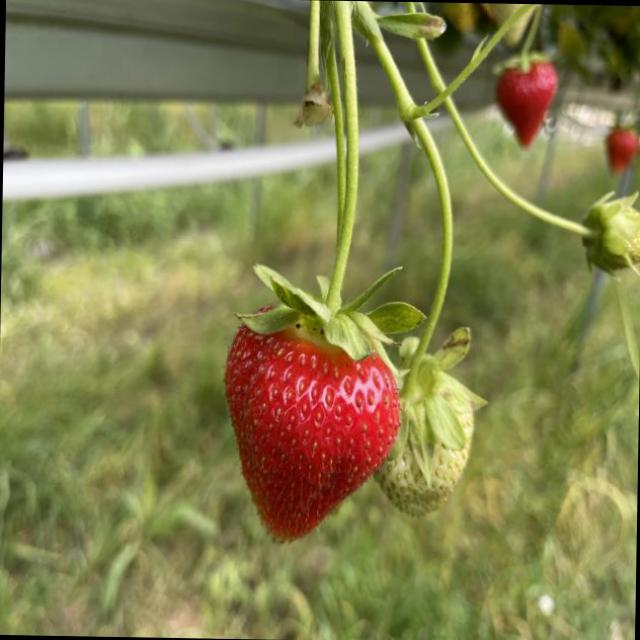stem: (239, 24, 385, 358), (389, 40, 482, 477)
strawberryNR: (378, 429, 470, 516)
strawberryR: (224, 329, 395, 535), (494, 61, 554, 145)
